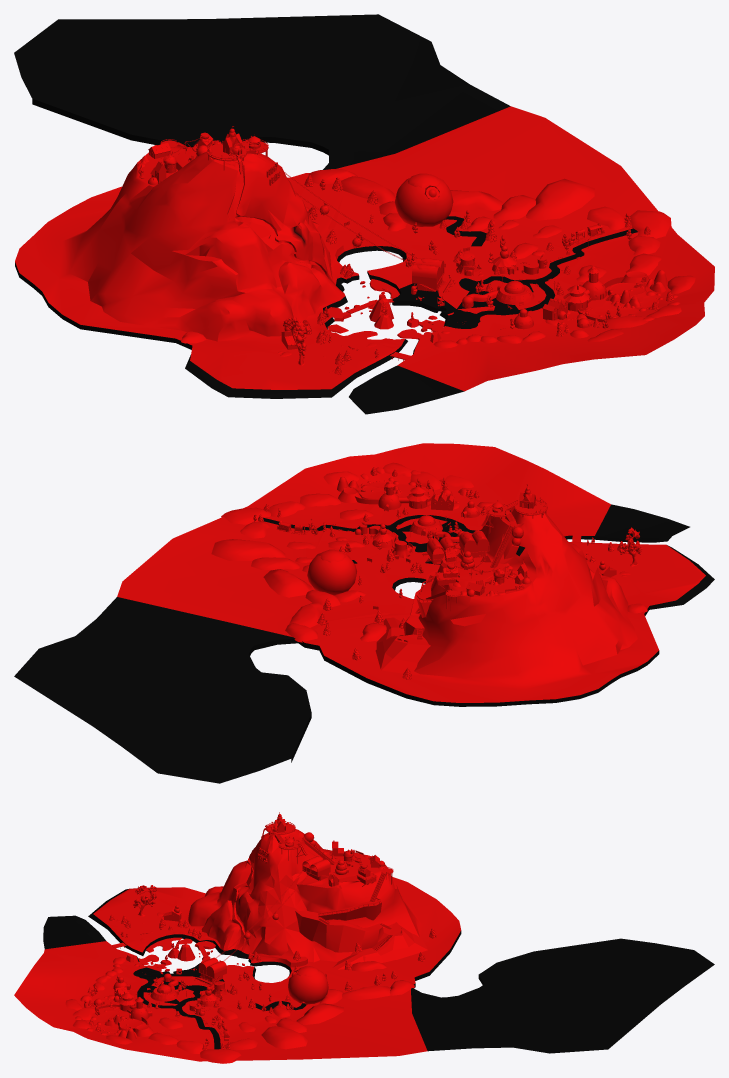
The model's file is Individual_PudgyPeaks_03.glb.
3 views of the same model, one above another, from view 1: azimuth 30°, elevation 25°; view 2: azimuth 150°, elevation 25°; view 3: azimuth 270°, elevation 25° (orthographic). The views are drawn at different scales.
Visible parts, largest first — view 1: sweep4, pCube290, pasted__pasted__Object_IceRock19, SnowPatch23, pCube68, polySurface127, pCube264, pCube272, polySurface72, SnowPatch18, SnowPatch56, SnowPatch60 (+1 smaller); view 2: sweep4, pCube525, pCube290, SnowPatch23, polySurface127, SnowPatch18, pCube68, pCube264, polySurface124, pCube272, SnowPatch60, SnowPatch56; view 3: sweep4, pCube525, pasted__pasted__Object_IceRock19, pCube290, SnowPatch23, pCube68, polySurface127, SnowPatch18, pCube264, SnowPatch60, polySurface72, polySurface124 (+2 smaller).
Part boxes in pixels (box(x1,y1,x2,y2)): sweep4: box(14, 14, 714, 414); pCube290: box(395, 173, 453, 226); pasted__pasted__Object_IceRock19: box(327, 279, 444, 342); SnowPatch23: box(526, 178, 594, 220); pCube68: box(581, 270, 667, 318); polySurface127: box(207, 126, 268, 170); pCube264: box(563, 266, 607, 311); pCube272: box(462, 280, 534, 308); polySurface72: box(412, 258, 444, 291); SnowPatch18: box(450, 190, 503, 212); SnowPatch56: box(628, 210, 671, 238); SnowPatch60: box(341, 176, 395, 204); sweep4: box(14, 443, 714, 783); pCube525: box(375, 569, 438, 675); pCube290: box(307, 549, 356, 595); SnowPatch23: box(211, 539, 285, 560); polySurface127: box(486, 484, 547, 533); SnowPatch18: box(263, 569, 311, 597); pCube68: box(337, 476, 424, 503); pCube264: box(378, 481, 428, 509); polySurface124: box(459, 530, 489, 557); pCube272: box(410, 515, 464, 542); SnowPatch60: box(289, 603, 323, 627); SnowPatch56: box(221, 507, 270, 524); sweep4: box(14, 829, 714, 1061); pCube525: box(295, 898, 427, 969); pasted__pasted__Object_IceRock19: box(126, 937, 244, 971); pCube290: box(288, 966, 328, 1004); SnowPatch23: box(261, 1026, 307, 1049); pCube68: box(91, 1007, 153, 1040); polySurface127: box(265, 812, 301, 863); SnowPatch18: box(296, 1003, 343, 1024); pCube264: box(118, 991, 148, 1020); SnowPatch60: box(342, 985, 390, 1000); polySurface72: box(198, 957, 226, 982); polySurface124: box(302, 856, 330, 880).
Bounding box in the file's own units: 202 × 56.79 × 307.
